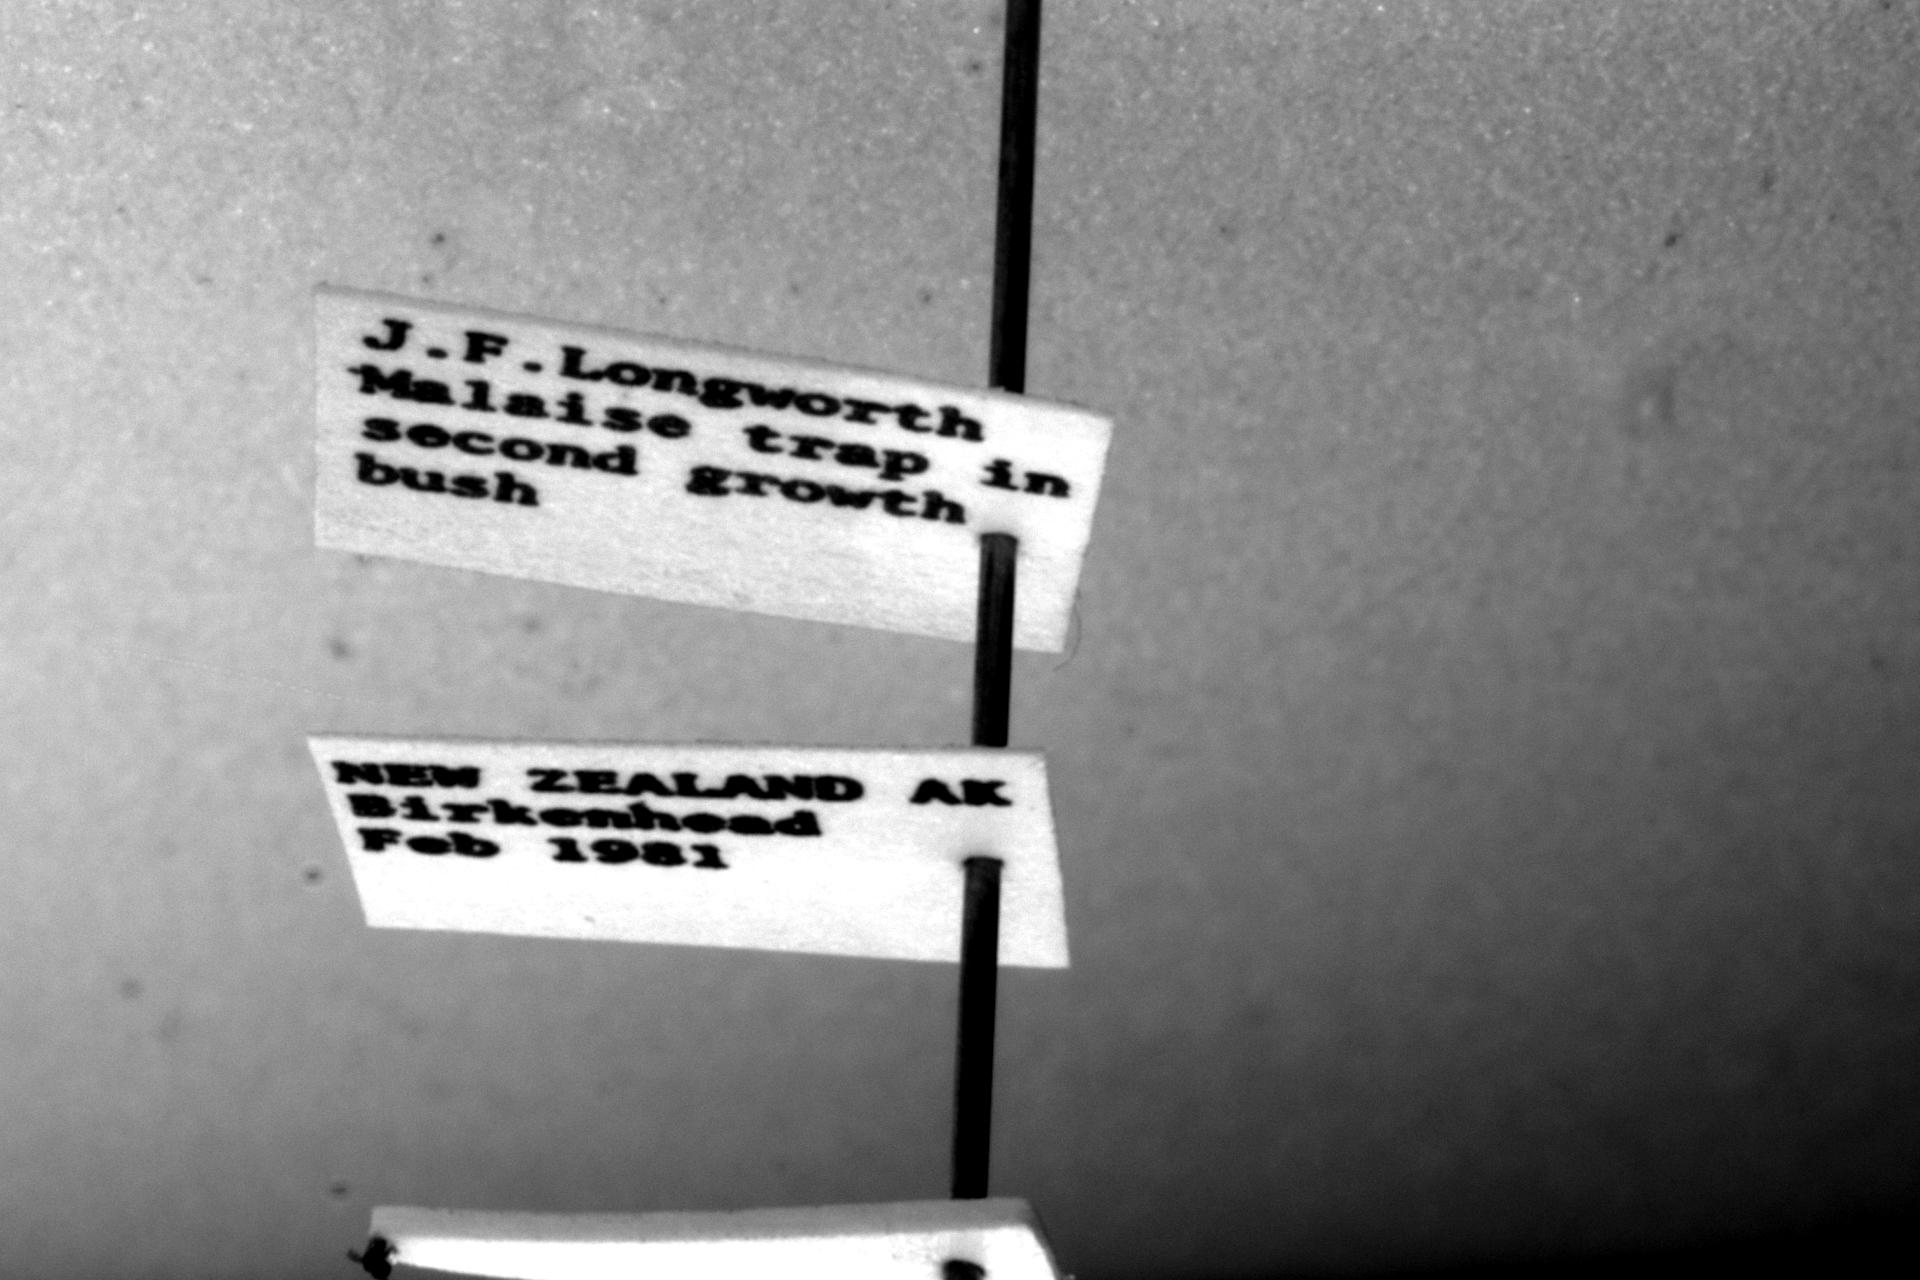typed_label: (314, 289, 1110, 653), (311, 734, 1069, 967)
